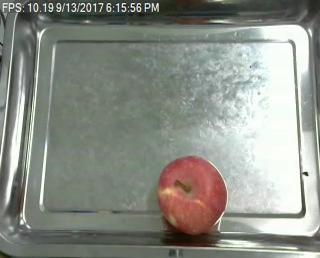apple: (157, 155, 227, 235)
